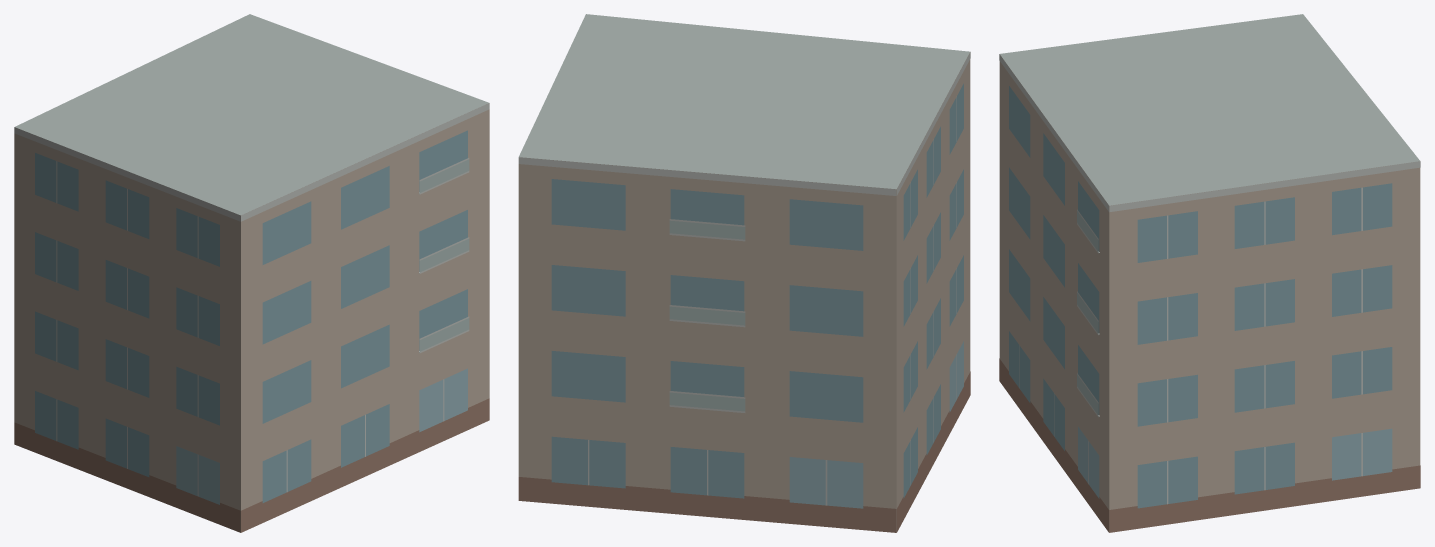
File: survey-upis-32568635.glb
The picture shows the model from 3 angles, left to right: view 1: azimuth 30°, elevation 25°; view 2: azimuth 150°, elevation 25°; view 3: azimuth 270°, elevation 25°; orthographic projection. The views are drawn at different scales.
Visible parts, largest first — view 1: survey-upis-32568635.tmp; view 2: survey-upis-32568635.tmp; view 3: survey-upis-32568635.tmp.
Boxes of the visible parts, x1=… form: survey-upis-32568635.tmp: x1=14, y1=14, x2=489, y2=532; survey-upis-32568635.tmp: x1=518, y1=14, x2=970, y2=532; survey-upis-32568635.tmp: x1=999, y1=14, x2=1420, y2=532.
Bounding box in the file's own units: 15.34 × 12.2 × 14.24.
